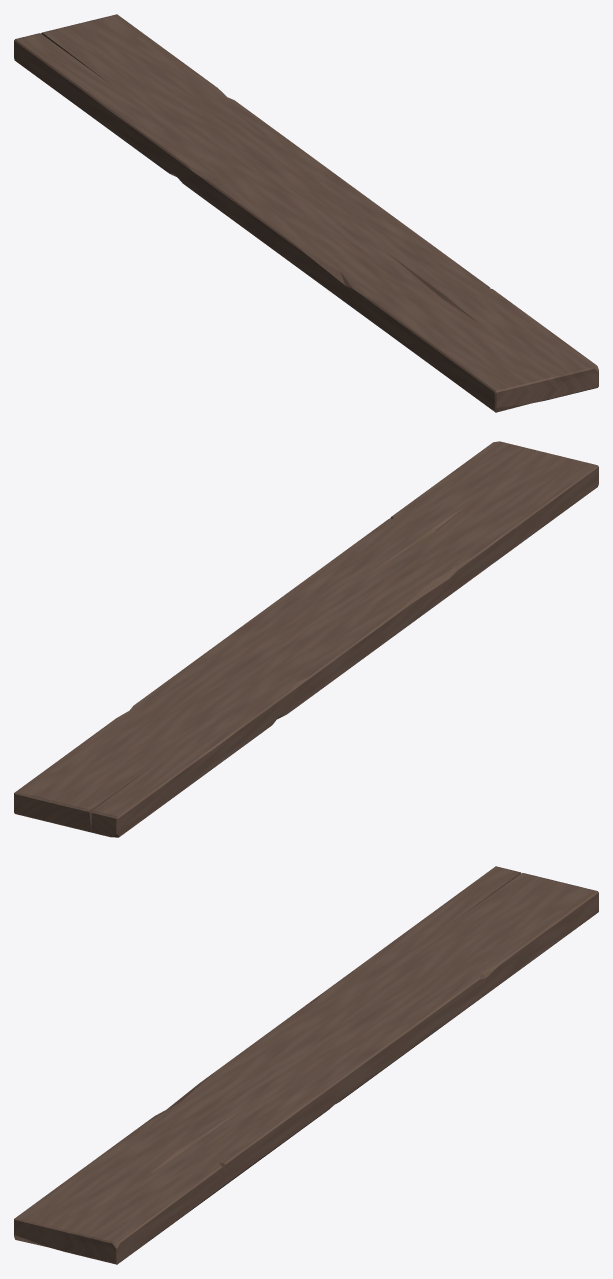
The model's file is plank.fbx.
3 views of the same model, one above another, from view 1: azimuth 30°, elevation 25°; view 2: azimuth 150°, elevation 25°; view 3: azimuth 330°, elevation 25° (orthographic).
Parts seen in each view (by area): view 1: Cube; view 2: Cube; view 3: Cube.
Part boxes in pixels (x1,y1,x2,y2): Cube: [14, 14, 598, 412]; Cube: [14, 441, 598, 837]; Cube: [14, 866, 598, 1264].
Size of the model in its own units: 100 by 20.94 by 800.
Materials: 1 (1 with a texture image).
